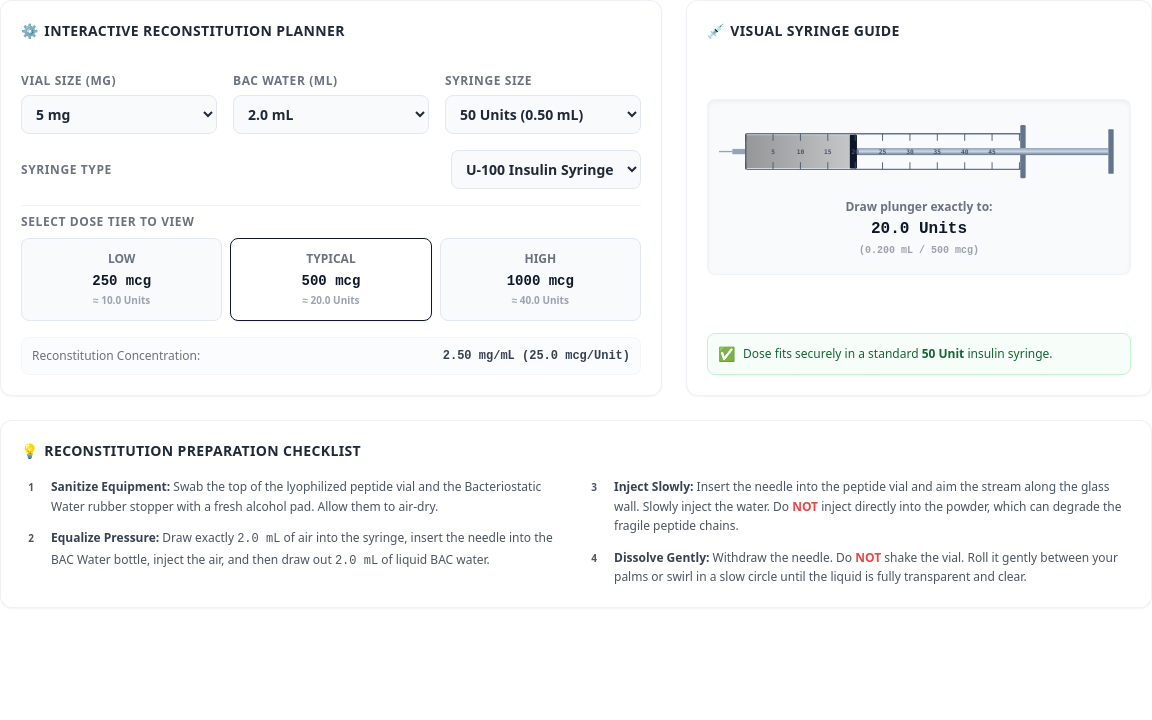
Test case: DosingReconstitutionPlanner Client Component › re-calculates concentration and units when BAC Water volume changes
Select "1.0 mL" in the dropdown with id "bac-water-select" at (331, 114), box [233,95,429,134]
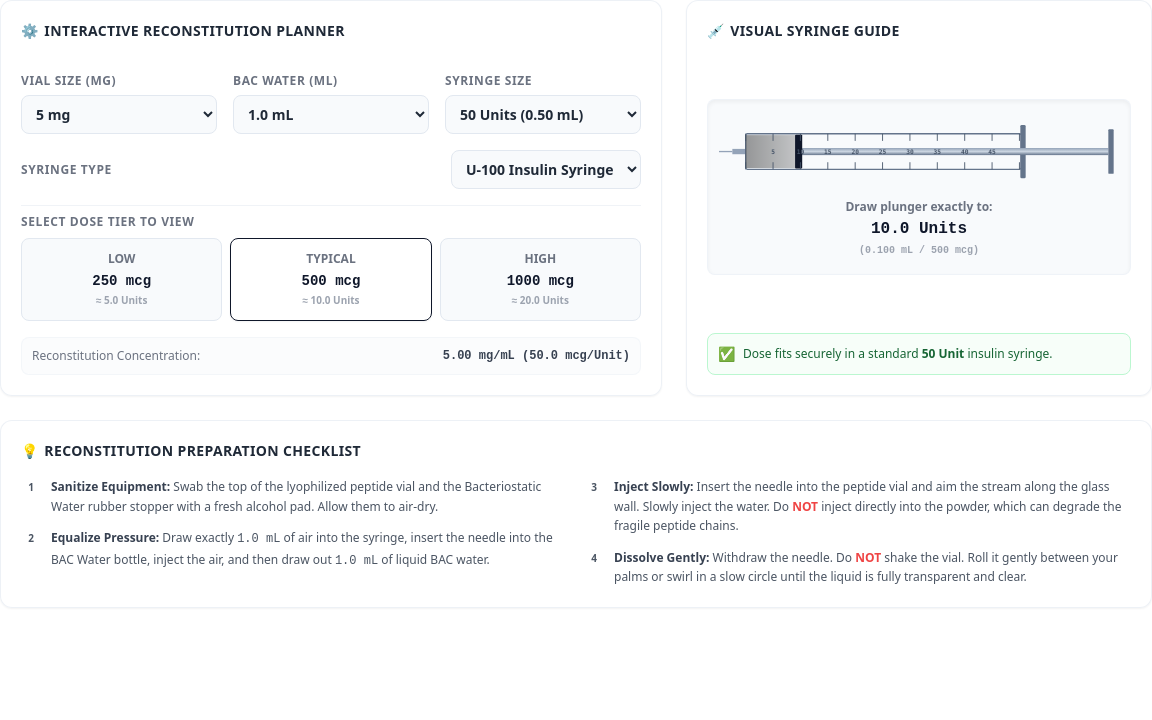
Result: the text with id "draw-units-text" reads "10.0 Units" at [871,220,967,238]
